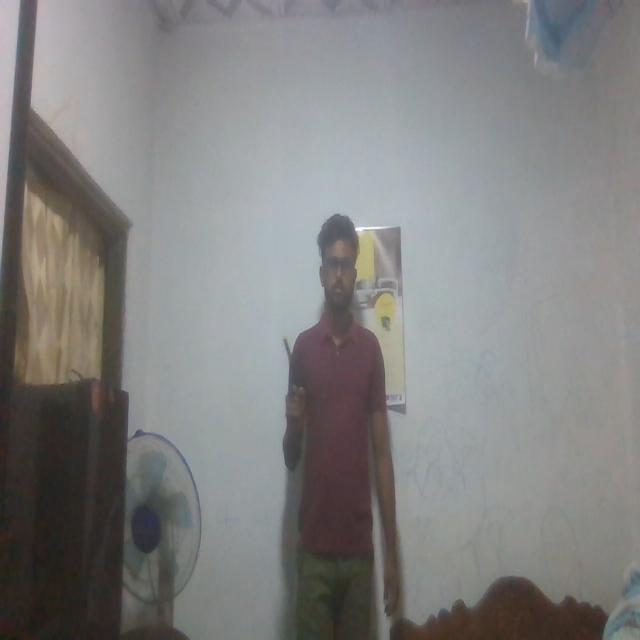Gun_Holder: (276, 333, 312, 419)
Person: (279, 229, 413, 640)
